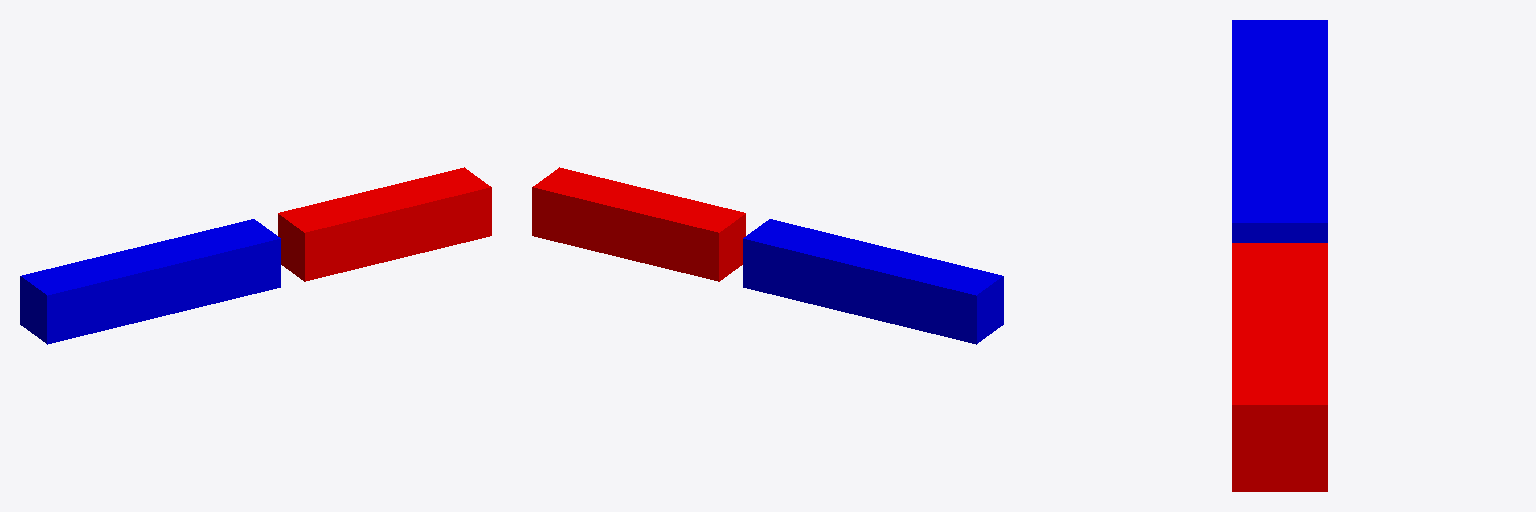
robot.urdf — two_link_robot:
<?xml version="1.0"?>
<robot name="two_link_robot">

  <!-- Base link -->
  <link name="link1">
    <visual>
      <geometry>
        <box size="0.5 0.1 0.1"/>
      </geometry>
      <origin xyz="0 0 0" rpy="0 0 0"/>
      <material name="blue">
        <color rgba="0 0 1 1"/>
      </material>
    </visual>
    <inertial>
      <origin xyz="0.25 0 0" rpy="0 0 0"/>
      <mass value="1.0"/>
      <inertia ixx="0.01" iyy="0.01" izz="0.01"
               ixy="0.0" ixz="0.0" iyz="0.0"/>
    </inertial>
  </link>

  <!-- Second link -->
  <link name="link2">
    <visual>
      <geometry>
        <box size="0.4 0.1 0.1"/>
      </geometry>
      <origin xyz="0 0 0" rpy="0 0 0"/>
      <material name="red">
        <color rgba="1 0 0 1"/>
      </material>
    </visual>
    <inertial>
      <origin xyz="0.2 0 0" rpy="0 0 0"/>
      <mass value="1.0"/>
      <inertia ixx="0.01" iyy="0.01" izz="0.01"
               ixy="0.0" ixz="0.0" iyz="0.0"/>
    </inertial>
  </link>

  <!-- Revolute joint between link1 and link2 -->
  <joint name="joint1" type="revolute">
    <parent link="link1"/>
    <child link="link2"/>
    <origin xyz="0.5 0 0" rpy="0 0 0"/>
    <axis xyz="0 0 1"/>
    <limit effort="10.0" velocity="1.0" lower="-1.57" upper="1.57"/>
  </joint>

</robot>

--- Render facts (derived) ---
The picture shows the robot from 3 angles, left to right: view 1: azimuth 30°, elevation 25°; view 2: azimuth 150°, elevation 25°; view 3: azimuth 270°, elevation 25°; orthographic projection.
Robot: two_link_robot — 2 links, 1 joints (1 revolute); root link link1; default pose: all joints at 0.
Visible links, largest first — view 1: link1, link2; view 2: link1, link2; view 3: link2, link1.
Link boxes in pixels (x1,y1,x2,y2): link1: [20, 219, 280, 344]; link2: [278, 167, 491, 281]; link1: [743, 219, 1003, 344]; link2: [532, 167, 745, 281]; link2: [1232, 243, 1327, 491]; link1: [1232, 20, 1327, 242].
Bounding box of the posed robot: 0.95 × 0.1 × 0.1 m (x, y, z).
Geometry: primitives only (box / cylinder / sphere), no mesh files.
